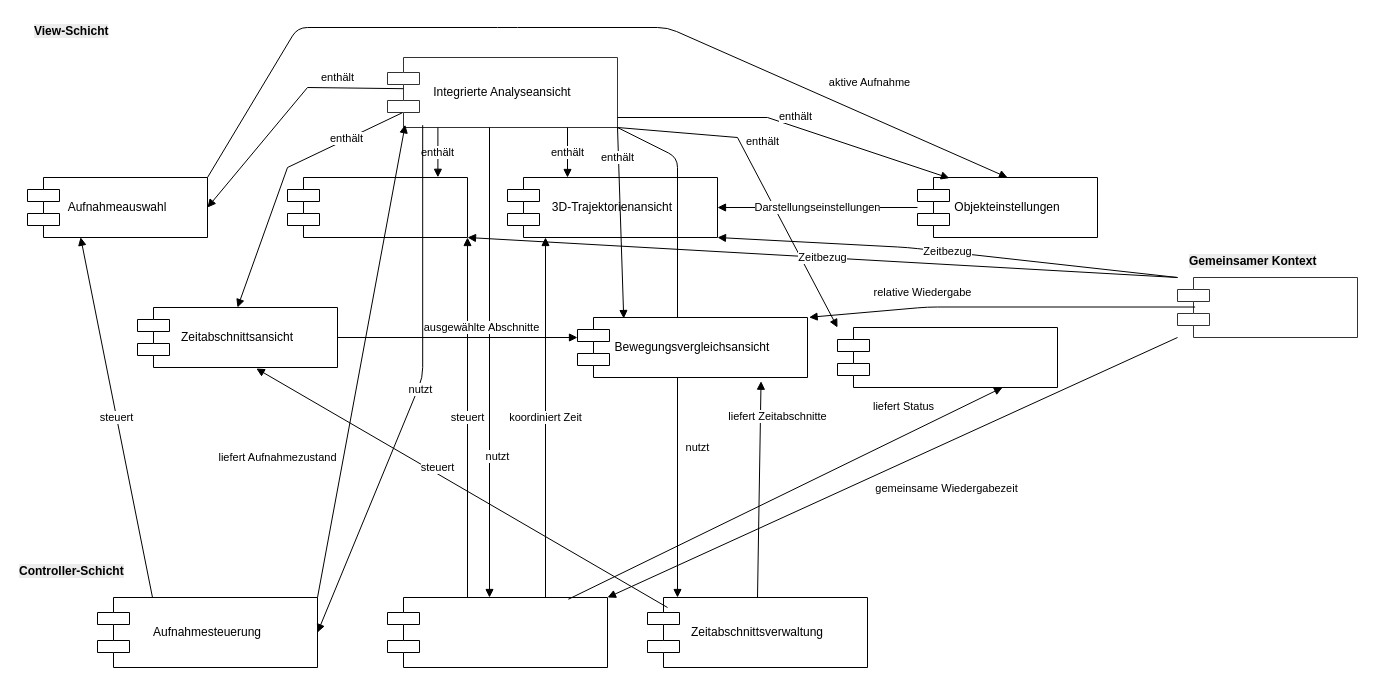
The diagram is 1375 pixels wide and 685 high, and some of its shapes have lost their labels. The shapes that lost their labels are listed below. From the top down, each one's centre as x and y in pixels, then its label:
At pixel 377 207: "Videoansicht".
At pixel 1267 307: "Gemeinsamer Wiedergabekontext".
At pixel 947 357: "Synchronisationsdiagnose".
At pixel 497 632: "Videowiedergabesteuerung".
